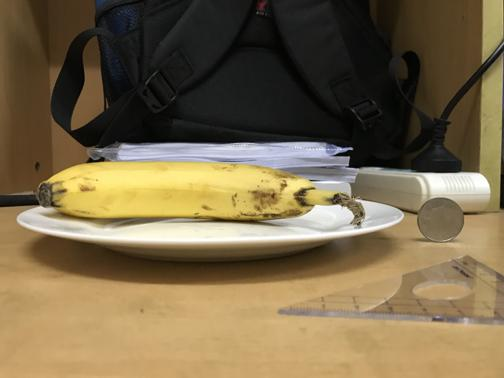banana: (35, 162, 330, 222)
coin: (416, 197, 463, 242)
